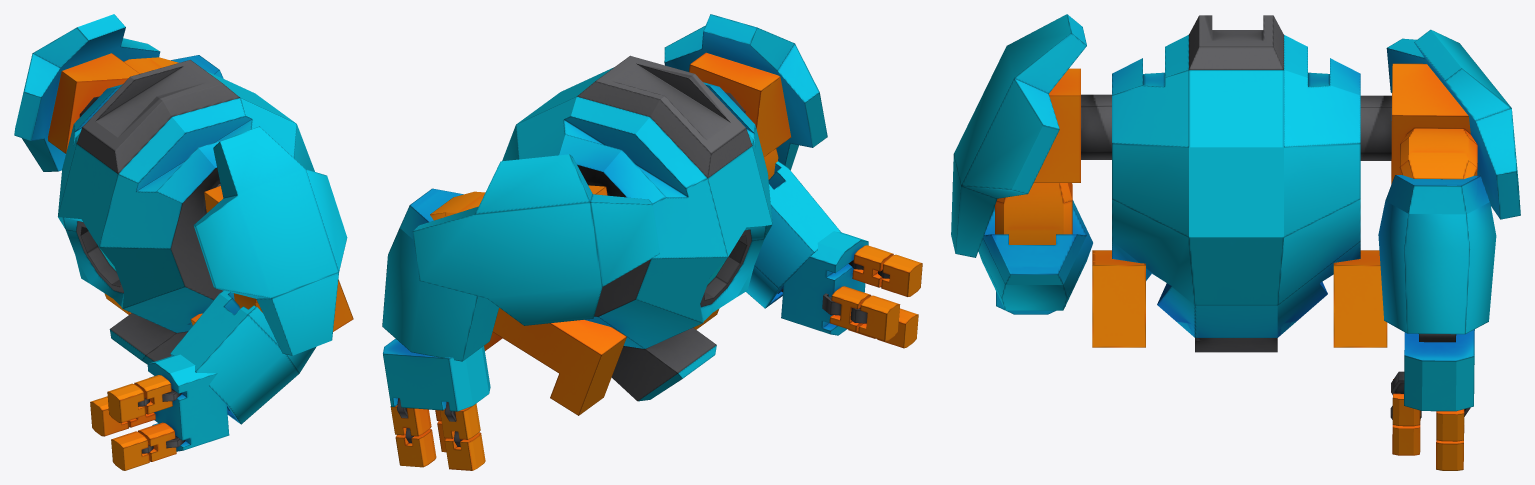
Rendered from Body_Running5.obj.
3 renders of one model, left to right at view 1: azimuth 30°, elevation 25°; view 2: azimuth 150°, elevation 25°; view 3: azimuth 270°, elevation 25°, orthographic. The views are drawn at different scales.
Parts seen in each view (by area): view 1: Plane001, Object006, Object002, Object008, Object007, Object003; view 2: Plane001, Object002, Object006, Object008, Object004, Object003, Object007; view 3: Plane001, Object006, Object003, Object002, Object004, Object007, Object001, Object005.
Part boxes in pixels (x1,y1,x2,y2): Plane001: (58,60,353,364); Object006: (193,126,347,355); Object002: (14,14,178,171); Object008: (90,354,229,470); Object007: (170,290,316,424); Object003: (171,55,223,78); Plane001: (484,55,772,415); Object002: (412,154,659,325); Object006: (664,14,827,179); Object008: (781,231,922,348); Object004: (383,338,490,470); Object003: (382,188,499,361); Object007: (746,161,841,308); Plane001: (1092,15,1387,352); Object006: (951,14,1086,257); Object003: (1378,175,1496,334); Object002: (1386,29,1520,219); Object004: (1390,329,1474,470); Object007: (978,200,1092,310); Object001: (1360,95,1391,160); Object005: (1081,94,1111,159).
Bounding box in the file's own units: 129 × 131 × 182.
